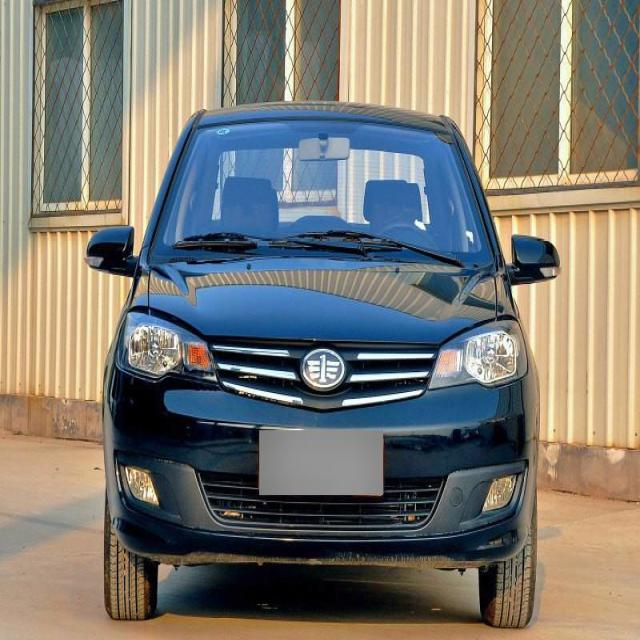front_bumper: (94, 401, 546, 572)
front_glass: (141, 106, 503, 280)
front_left_side_light: (425, 311, 534, 410)
front_left_side_mirror: (502, 224, 563, 294)
front_right_side_light: (116, 303, 222, 402)
front_right_side_mirror: (80, 218, 146, 291)
wheel: (99, 486, 168, 627), (475, 488, 542, 633)
